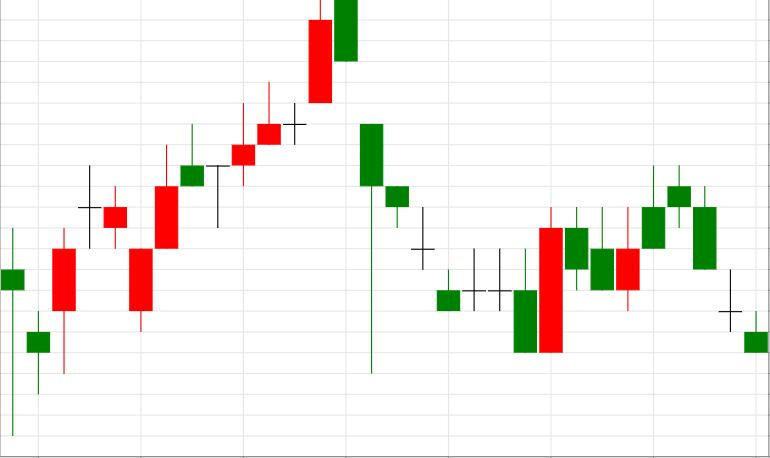bullish_engulfing_rise: (335, 0, 563, 373)
